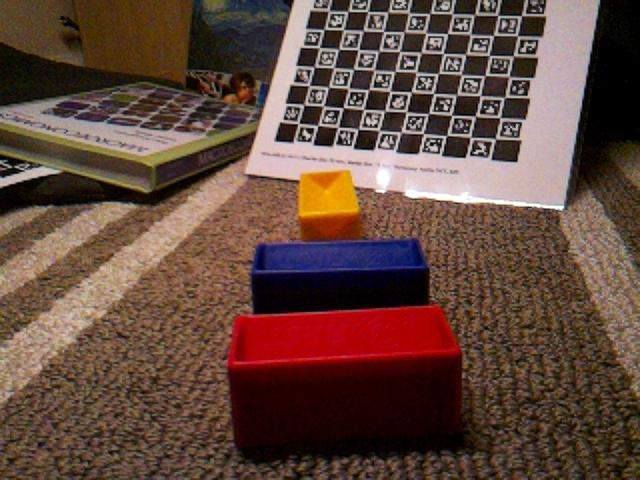blue: (249, 236, 431, 314)
red: (227, 303, 465, 457)
yellow: (296, 168, 363, 241)
